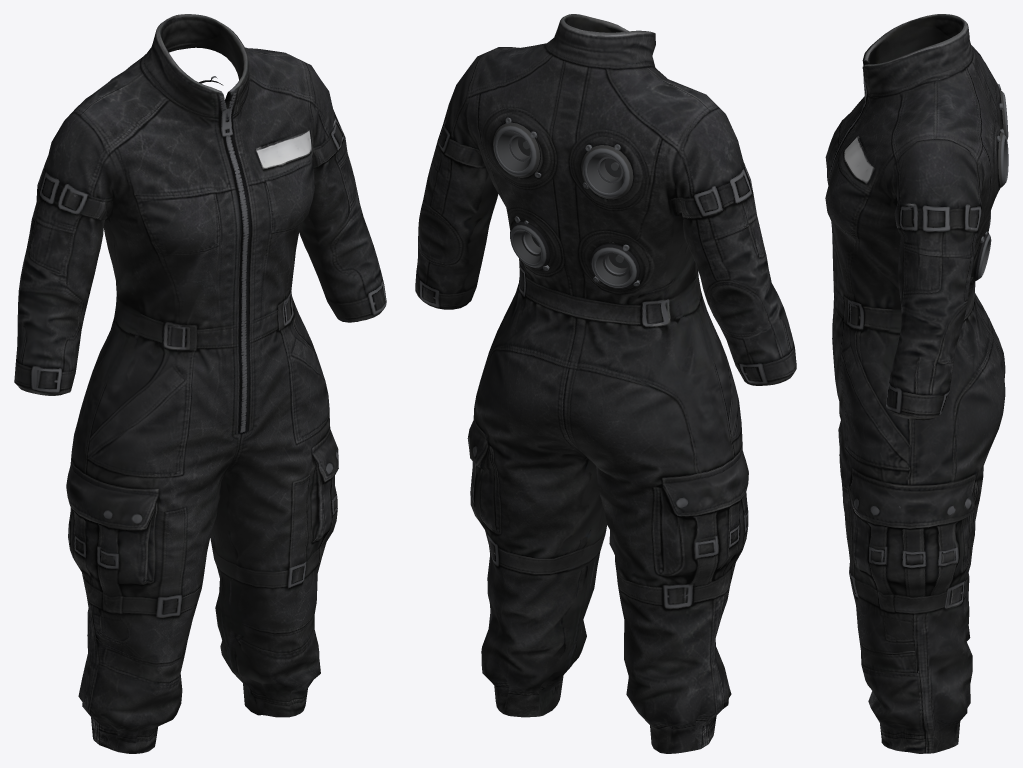
Rendered from aporia_jumpsuit_low_v5_tucked.glb.
3 renders of one model, left to right at view 1: azimuth 30°, elevation 25°; view 2: azimuth 150°, elevation 25°; view 3: azimuth 270°, elevation 25°, orthographic. The views are drawn at different scales.
Parts seen in each view (by area): view 1: jumpsuit_cloth; view 2: jumpsuit_cloth, port_upper_right, port_upper_left, port_lower_right, port_lower_left; view 3: jumpsuit_cloth, port_upper_left, port_lower_left.
Boxes of the visible parts, x1=… form: jumpsuit_cloth: x1=14, y1=14, x2=386, y2=753; jumpsuit_cloth: x1=415, y1=14, x2=796, y2=753; port_upper_right: x1=581, y1=144, x2=633, y2=199; port_upper_left: x1=493, y1=117, x2=541, y2=177; port_lower_right: x1=590, y1=243, x2=640, y2=288; port_lower_left: x1=510, y1=216, x2=550, y2=270; jumpsuit_cloth: x1=825, y1=14, x2=1005, y2=753; port_upper_left: x1=997, y1=129, x2=1008, y2=187; port_lower_left: x1=973, y1=231, x2=991, y2=280.
Bounding box in the file's own units: 0.6341 × 1.14 × 0.2771.
1 material, 1 textured.
